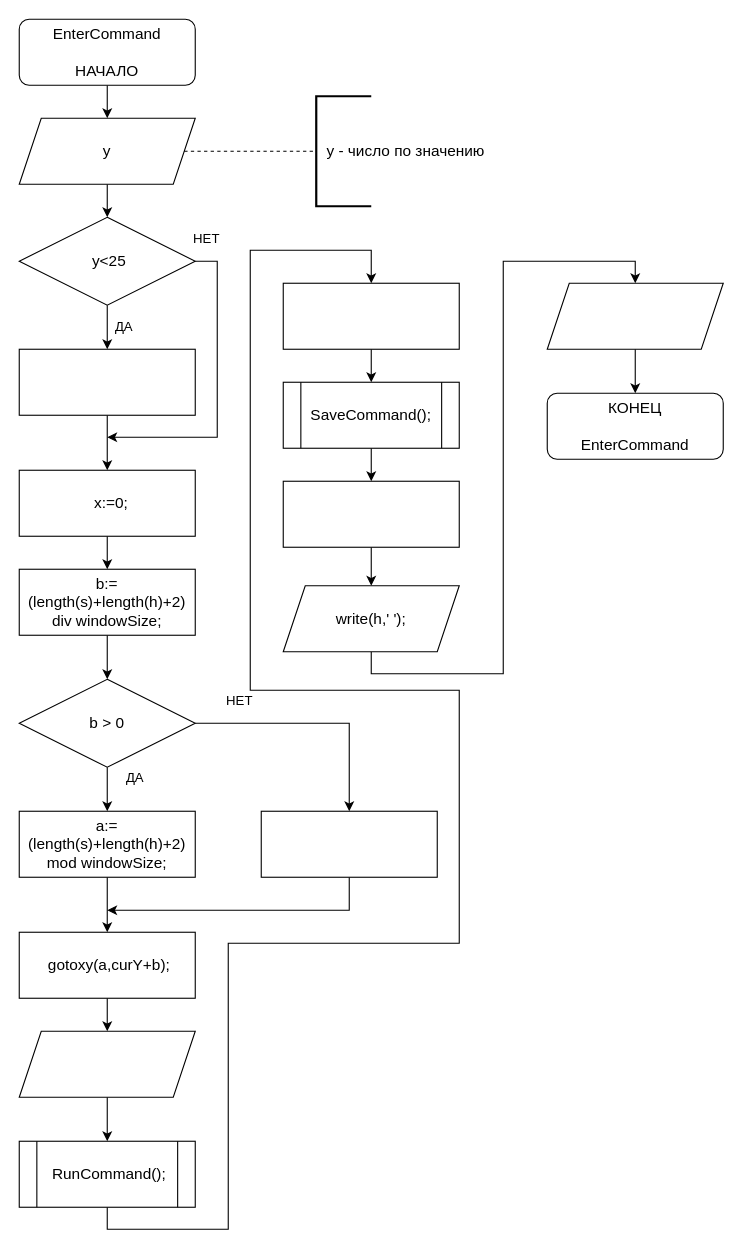
Image size: 743x1257. Some labels were removed from this diagram. The centre of each missing label's shape, as x and y in pixels:
a:=length(s)+length(h)+2;: the point at 348,843
cmdEl:=nil;: the point at 370,315
s:='';: the point at 370,513
writeln();: the point at 106,1063
y:=wherey+1;: the point at 106,381
ВЕРНУТЬ y: the point at 634,315
